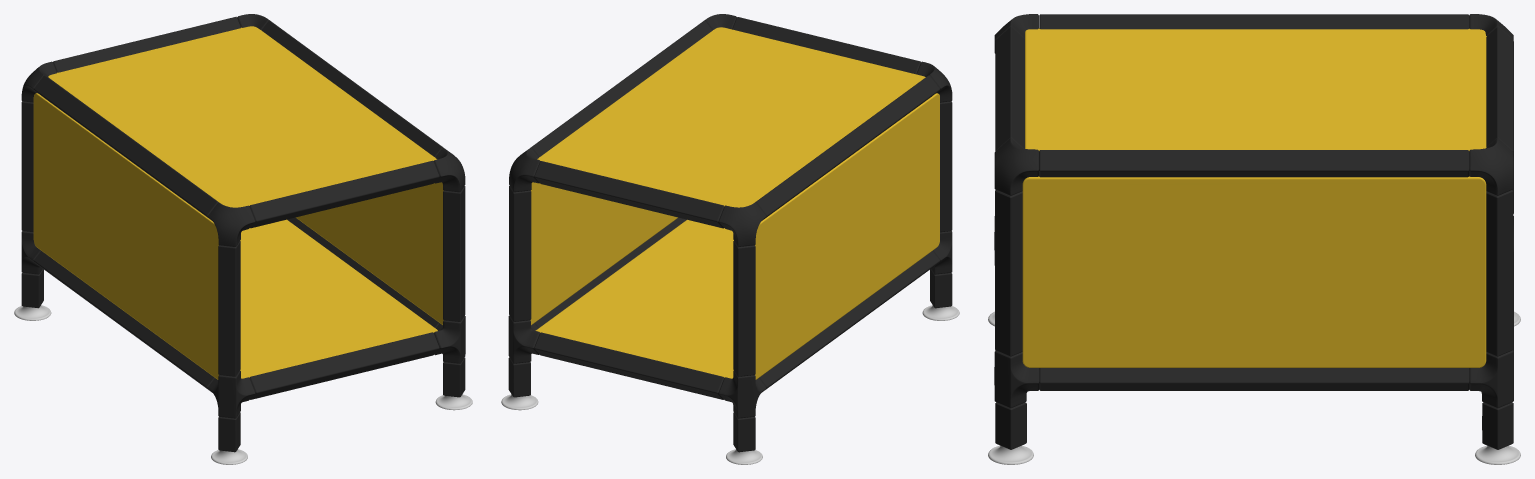
3 views of the same model, side by side, from view 1: azimuth 30°, elevation 25°; view 2: azimuth 150°, elevation 25°; view 3: azimuth 270°, elevation 25° (orthographic). The views are drawn at different scales.
Visible parts, largest first — view 1: 229x374x154; view 2: 229x374x154; view 3: 229x374x154.
Boxes of the visible parts, x1,y1,x2,y2 form: 229x374x154: (14, 14, 472, 464); 229x374x154: (501, 14, 959, 464); 229x374x154: (988, 14, 1520, 464).
Bounding box in the file's own units: 0.3189 × 0.2933 × 0.4632.
